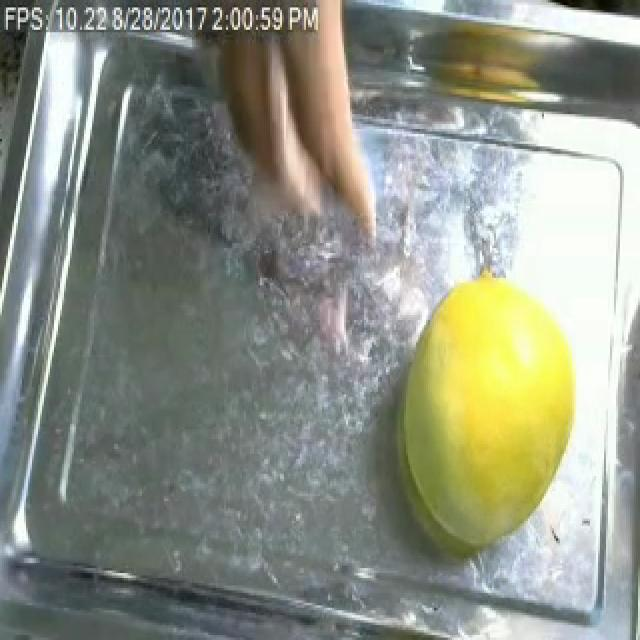fruit: (372, 246, 598, 573)
